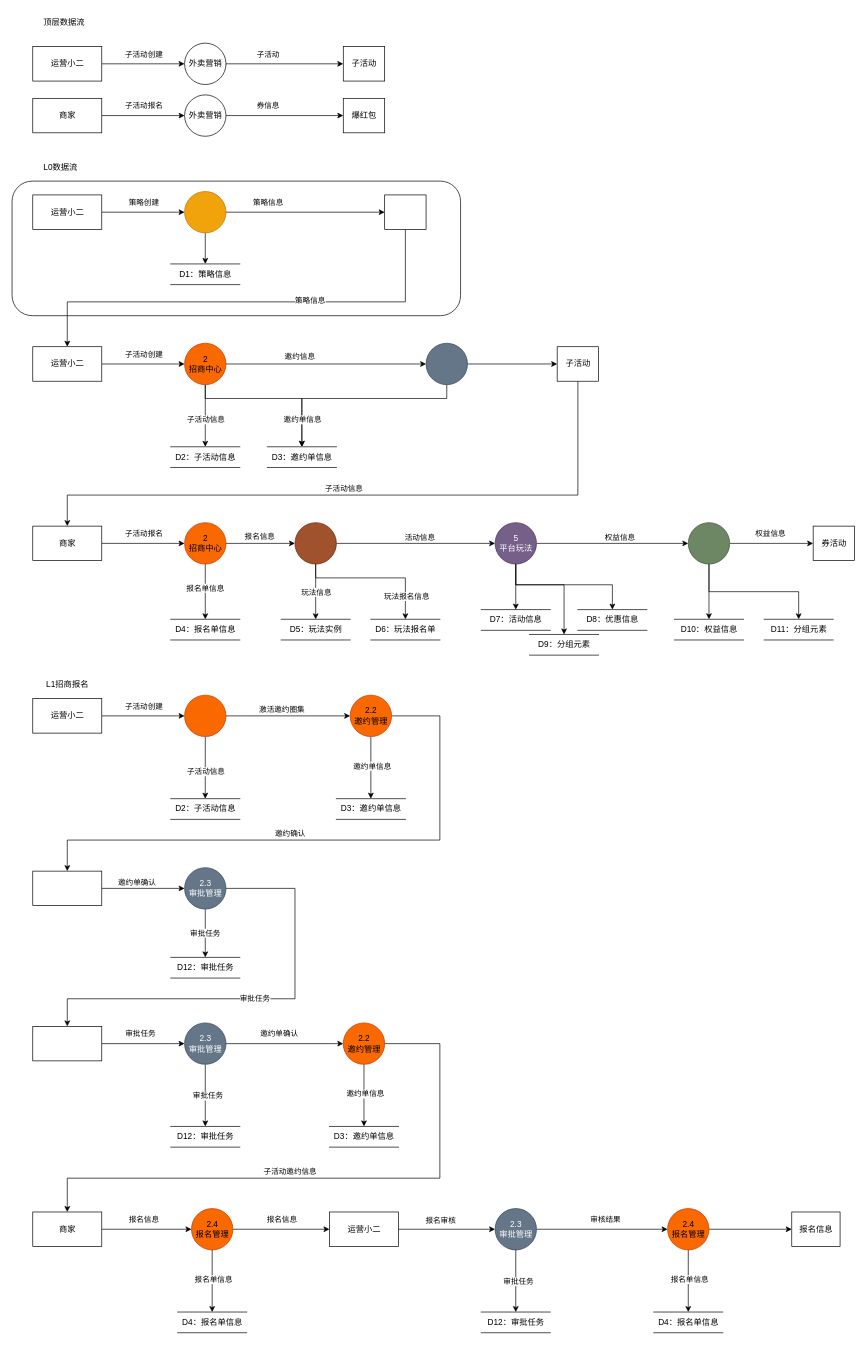
Image size: 867x1345. Some labels were removed from this diagram. The centre of each missing label's shape, as x and y in pixels:
"1 策略服务" belongs at point 205,212.
"2.1 子活动管理" belongs at point 205,715.
"3 审批服务" belongs at point 446,364.
"4 行业玩法" belongs at point 315,543.
"6 权益中心" belongs at point 709,543.
"BD" belongs at point 67,888.
"BDM/CM" belongs at point 67,1043.
"策略规则" belongs at point 405,211.
